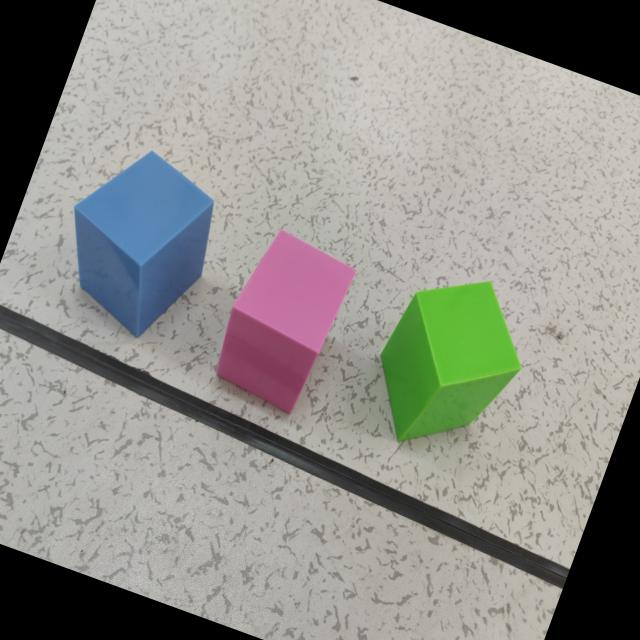blue: (72, 154, 214, 339)
green: (378, 282, 520, 445)
pink: (215, 232, 356, 415)
